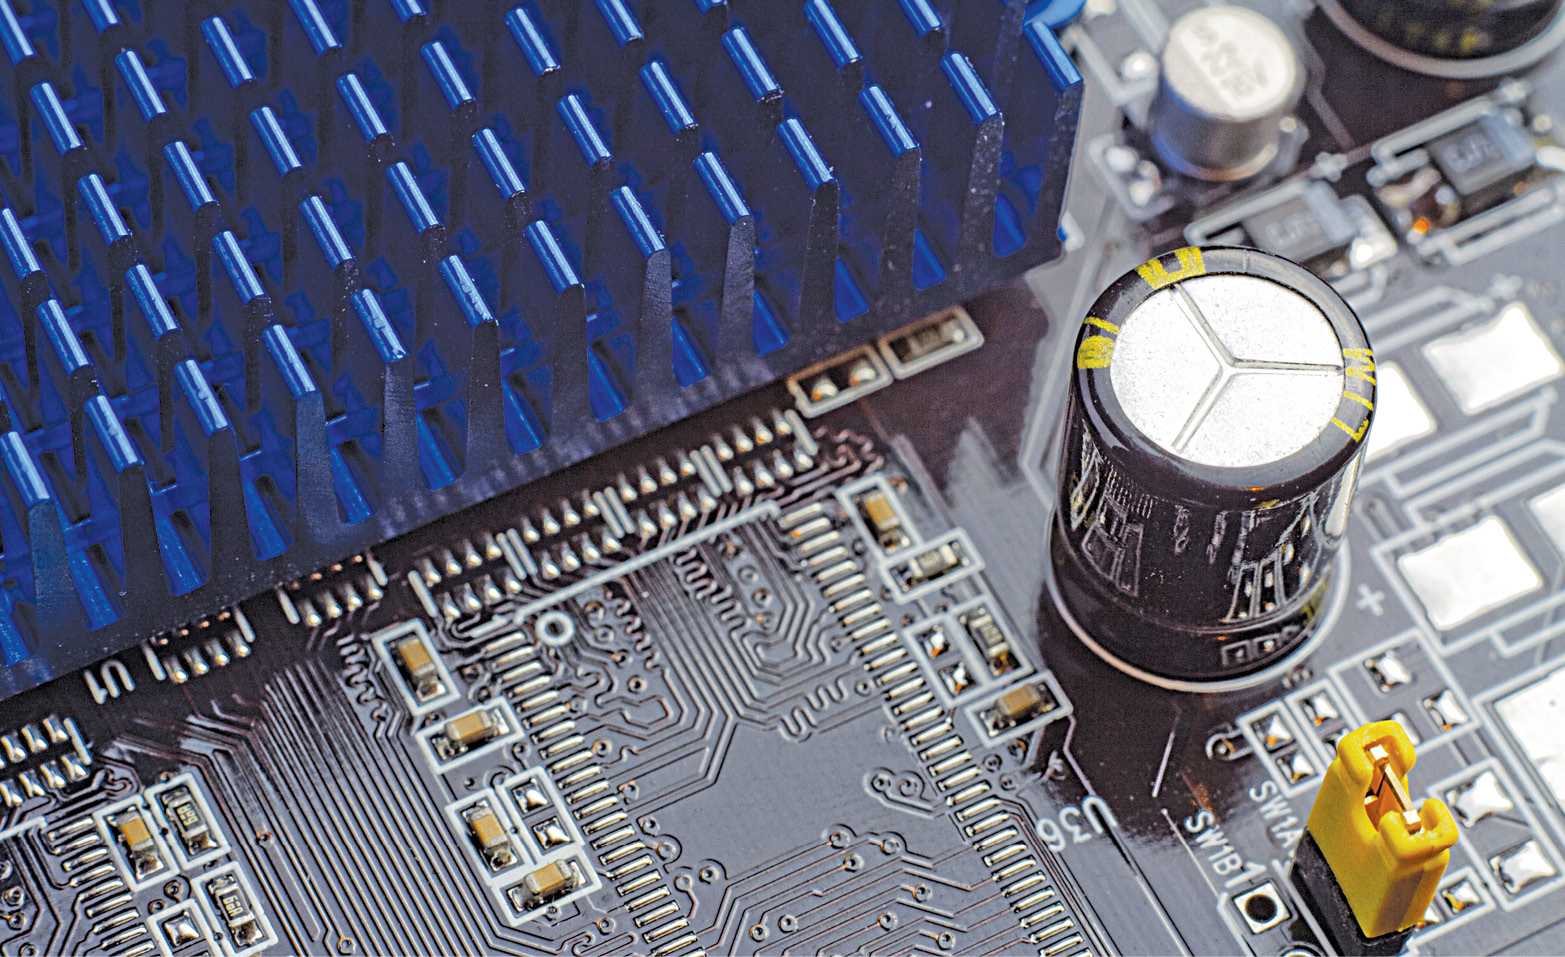capacitor: (1041, 210, 1411, 760)
